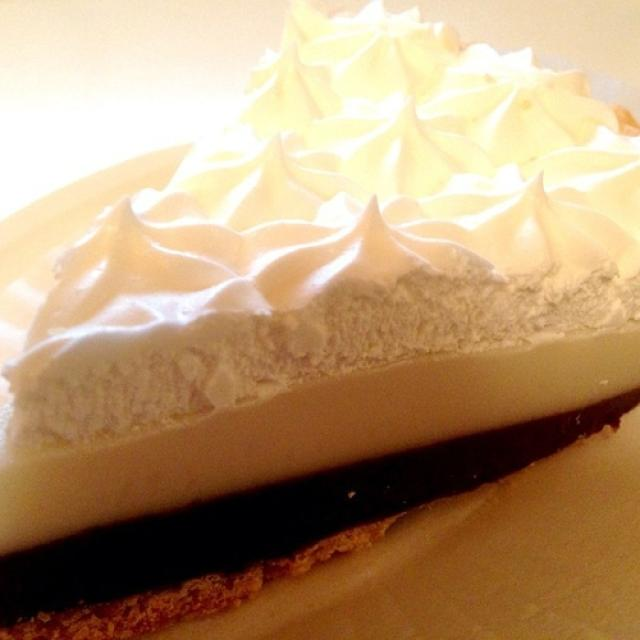蛋糕甜品: (23, 13, 621, 613)
